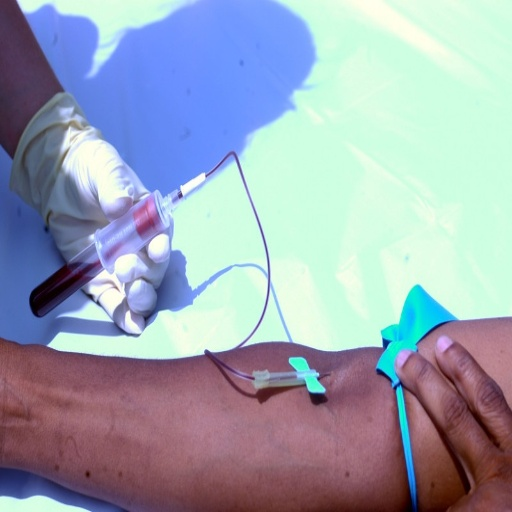hand: (45, 128, 174, 333), (393, 332, 511, 511)
